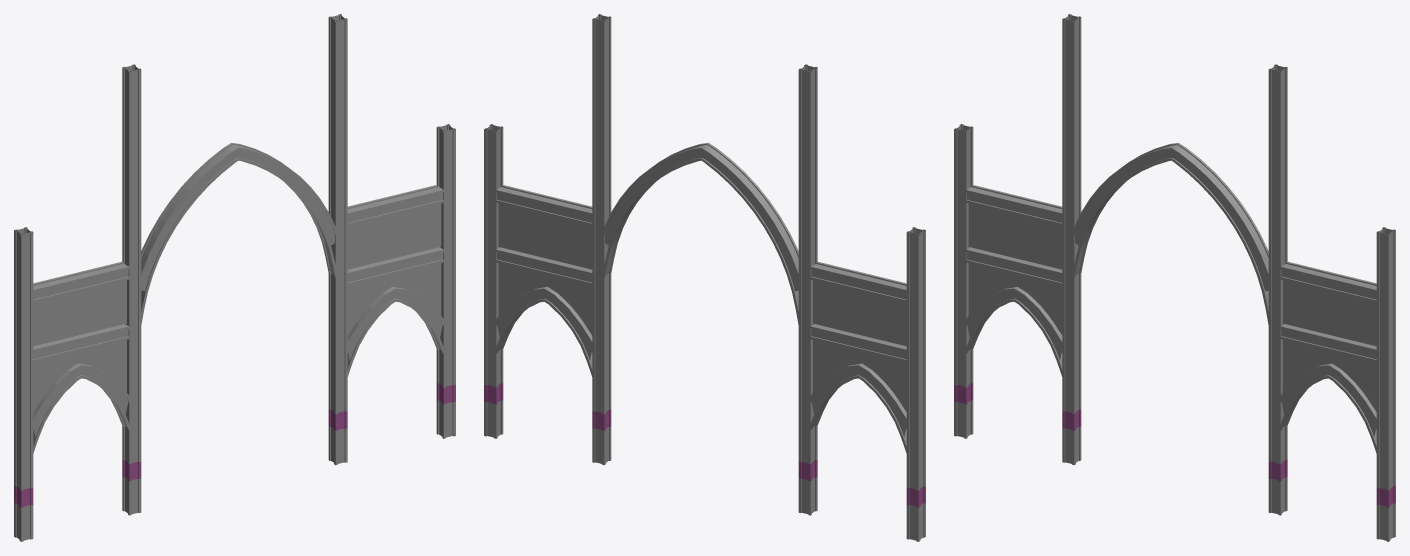
The model's file is model_large_metal_scaffolding_malia.fbx.
3 views of the same model, side by side, from view 1: azimuth 30°, elevation 25°; view 2: azimuth 150°, elevation 25°; view 3: azimuth 330°, elevation 25° (orthographic).
Visible parts, largest first — view 1: LargeMetalArches; view 2: LargeMetalArches; view 3: LargeMetalArches.
Part boxes in pixels (box(x1,y1,x2,y2)): LargeMetalArches: box(14, 14, 455, 541); LargeMetalArches: box(484, 14, 925, 541); LargeMetalArches: box(954, 14, 1395, 541).
Bounding box in the file's own units: 2101 × 2047 × 59.06.
